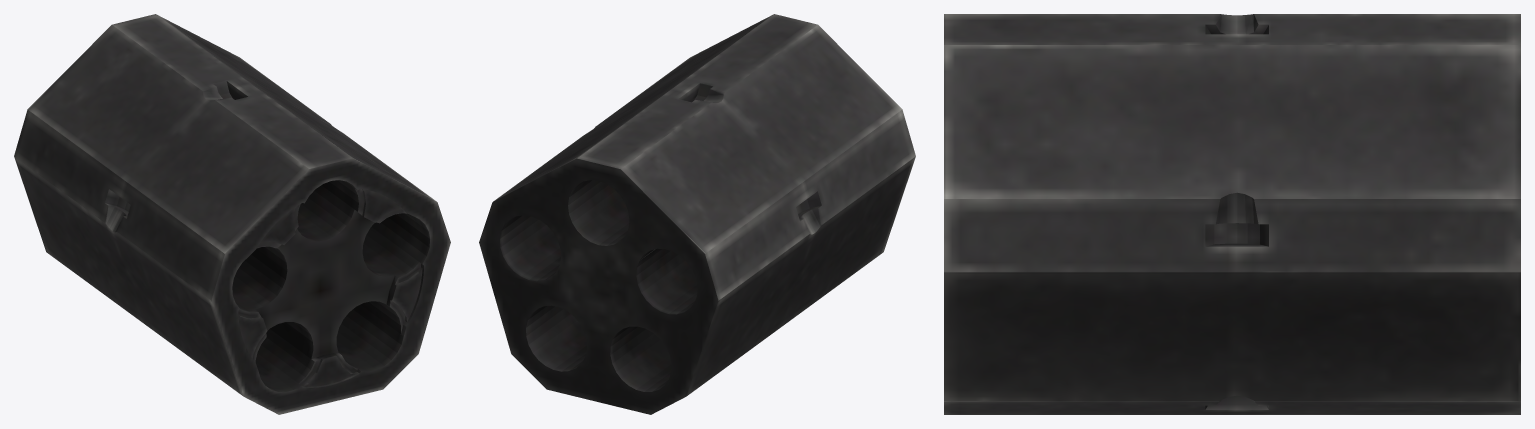
The picture shows the model from 3 angles, left to right: view 1: azimuth 30°, elevation 25°; view 2: azimuth 150°, elevation 25°; view 3: azimuth 270°, elevation 25°; orthographic projection. The views are drawn at different scales.
Parts seen in each view (by area): view 1: TW_633ec6ee025b096d320a3b15_PZ_Import; view 2: TW_633ec6ee025b096d320a3b15_PZ_Import; view 3: TW_633ec6ee025b096d320a3b15_PZ_Import.
Boxes of the visible parts, bbox=[...] form: TW_633ec6ee025b096d320a3b15_PZ_Import: bbox=[14, 14, 450, 414]; TW_633ec6ee025b096d320a3b15_PZ_Import: bbox=[479, 14, 915, 414]; TW_633ec6ee025b096d320a3b15_PZ_Import: bbox=[944, 14, 1520, 414].
Size of the model in its own units: 0.0328 by 0.0469 by 0.0312.
Materials: 1 (1 with a texture image).
